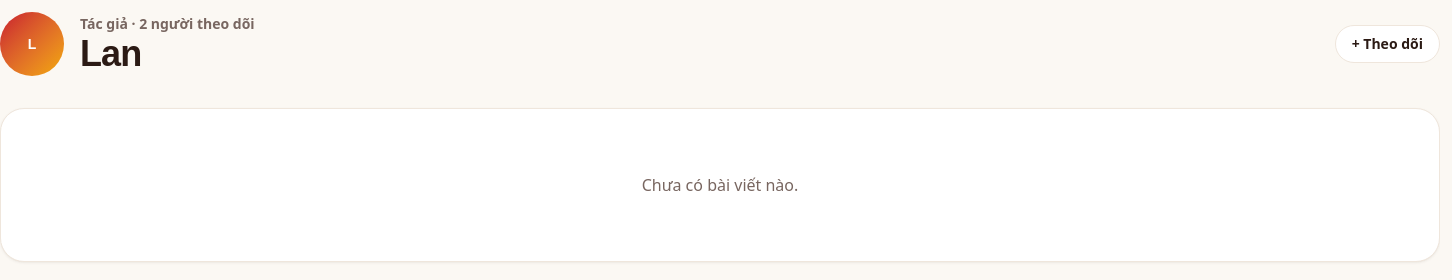
follows (D43) › lets a reader follow an author from the author page
Expected: the text "Tác giả · 2 người theo dõi" is shown, left=80, top=14, right=255, bottom=33
Step 1. Click the button "+ Theo dõi" → (1387, 44), box left=1335, top=25, right=1440, bottom=63
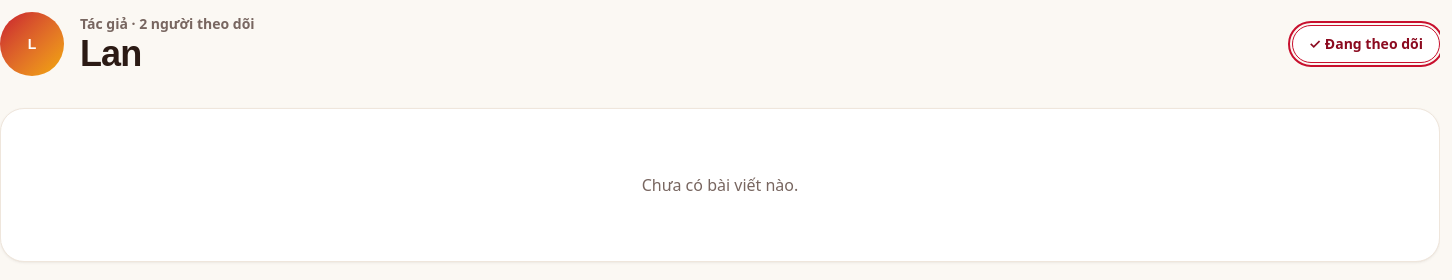
Now the button "✓ Đang theo dõi" is shown, box left=1292, top=25, right=1440, bottom=63
